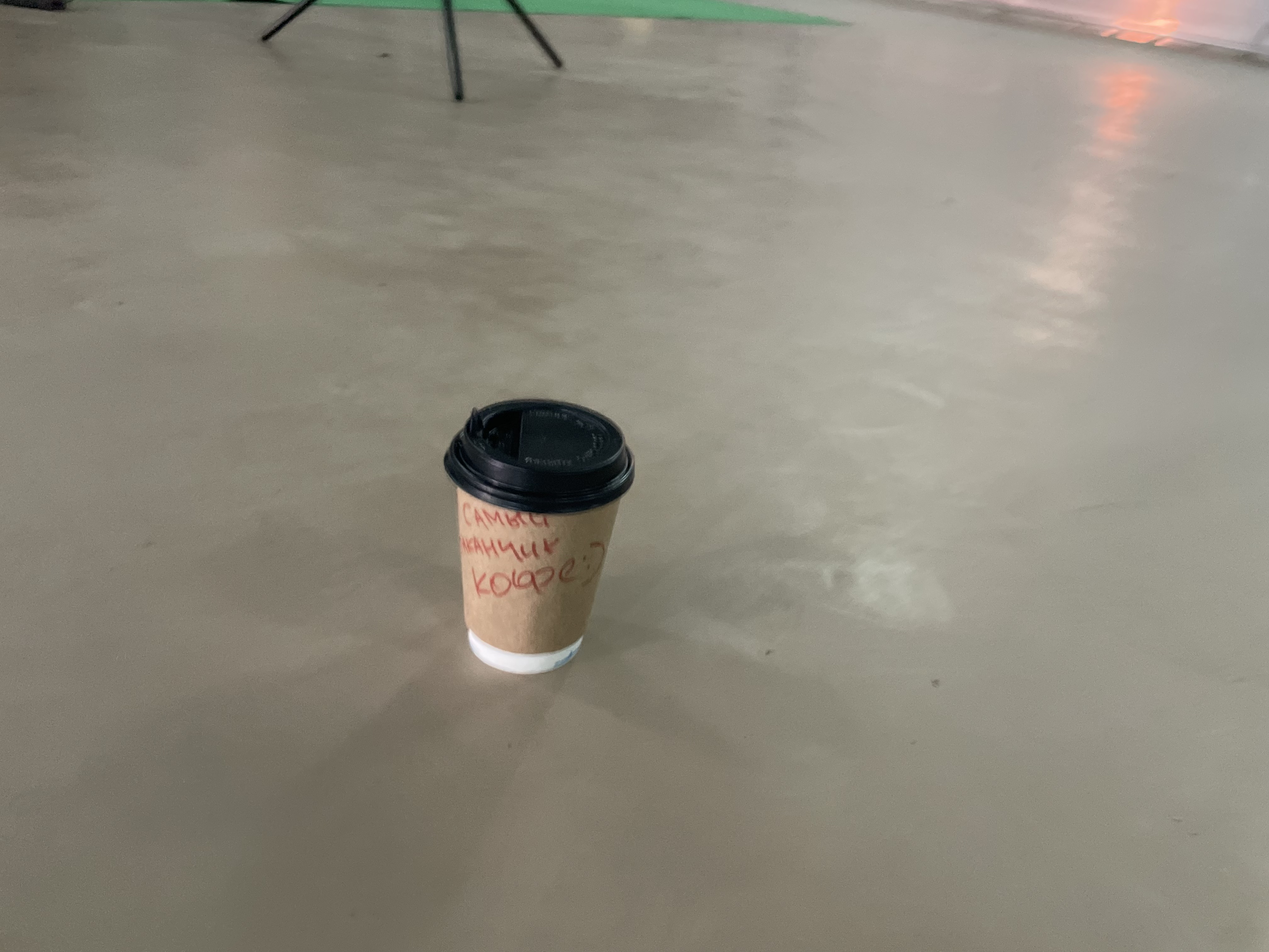cup: (441, 399, 636, 676)
